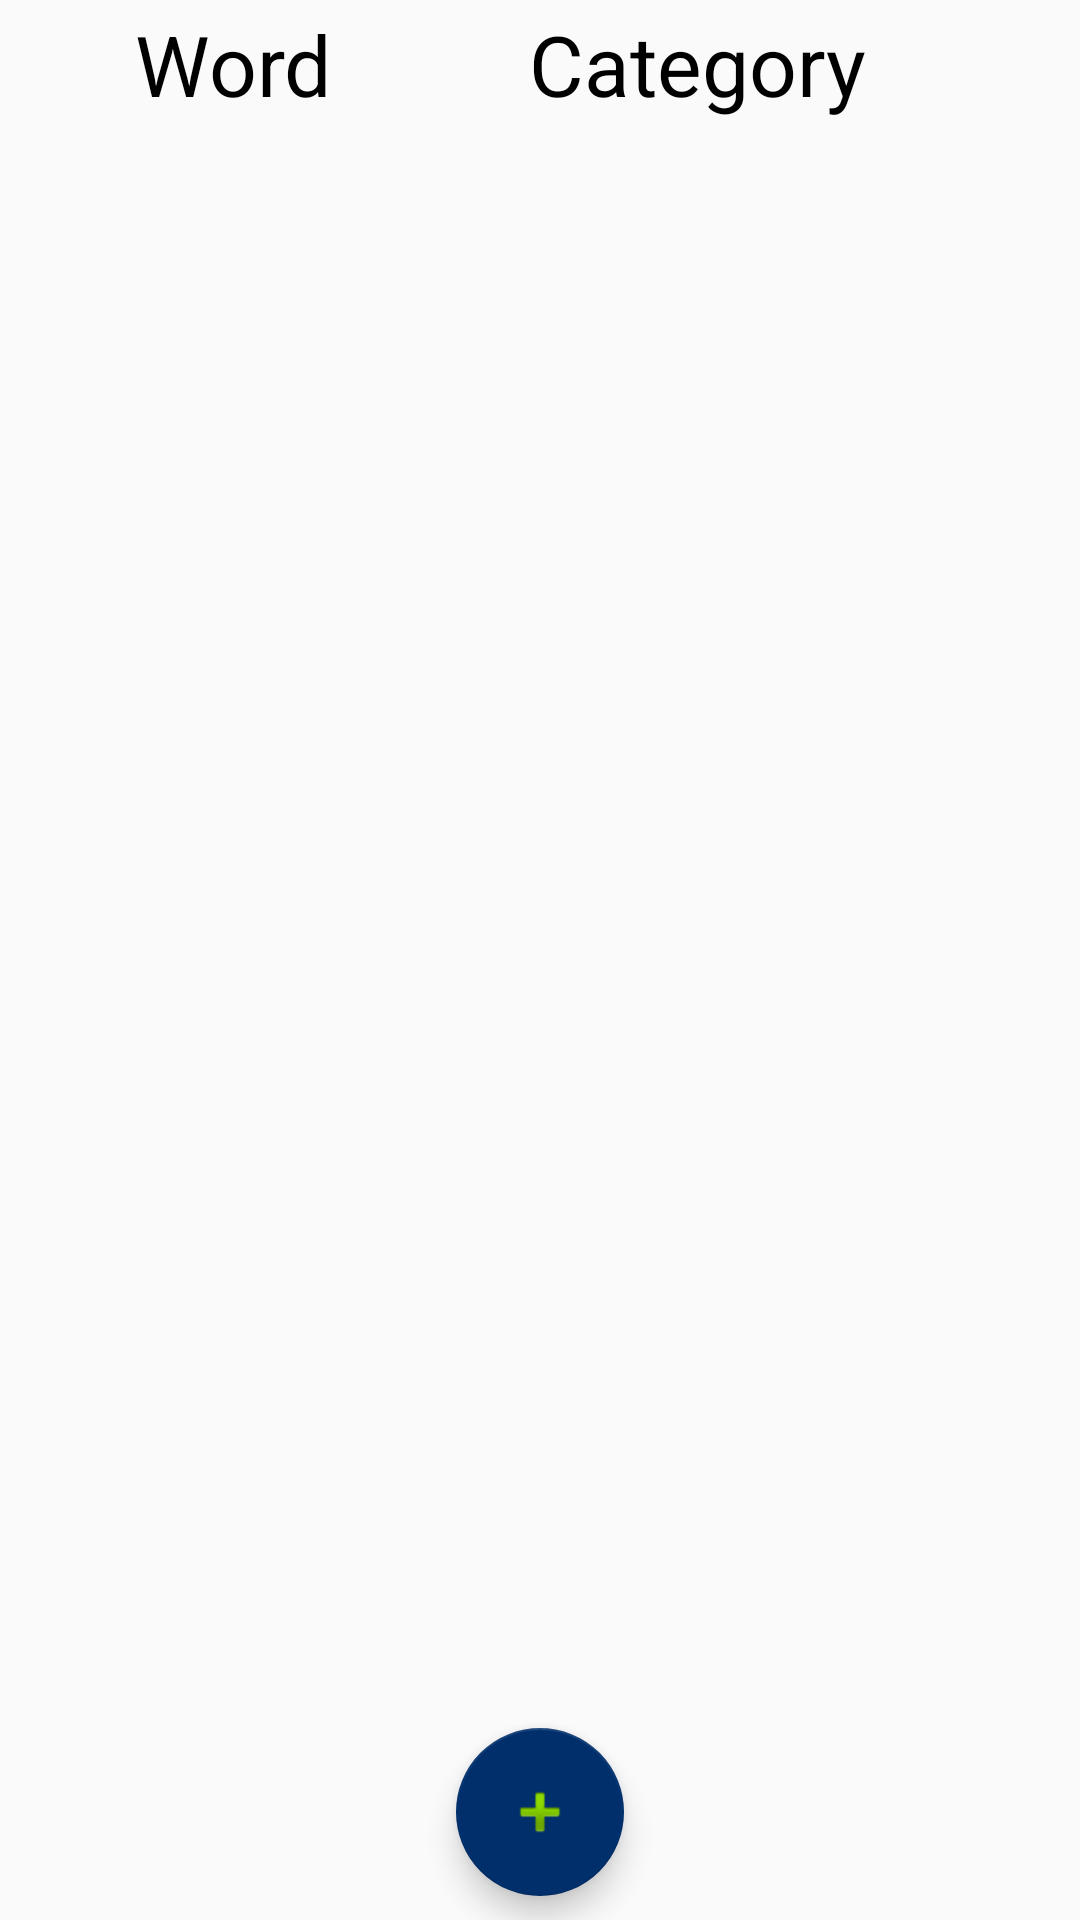

Screen size 1080px x 1920px. Icon name, then its center in pixels as point (x, y):
add: point (540, 1812)
